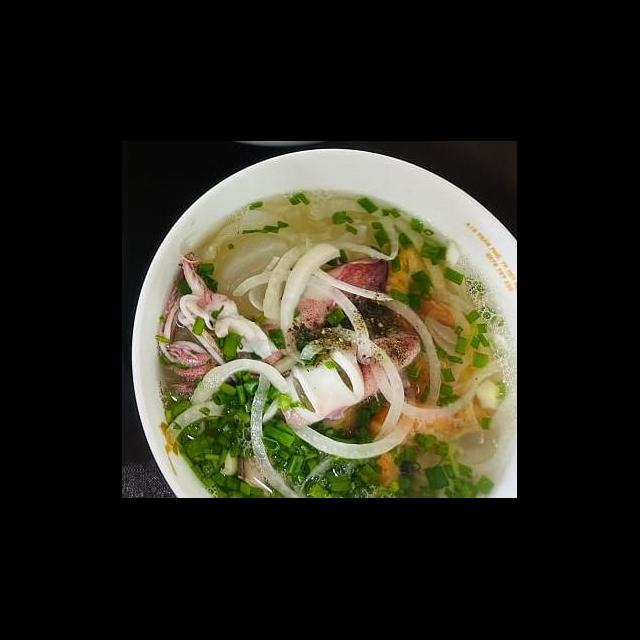muc: (233, 250, 394, 382), (153, 245, 284, 402), (268, 323, 426, 432)
